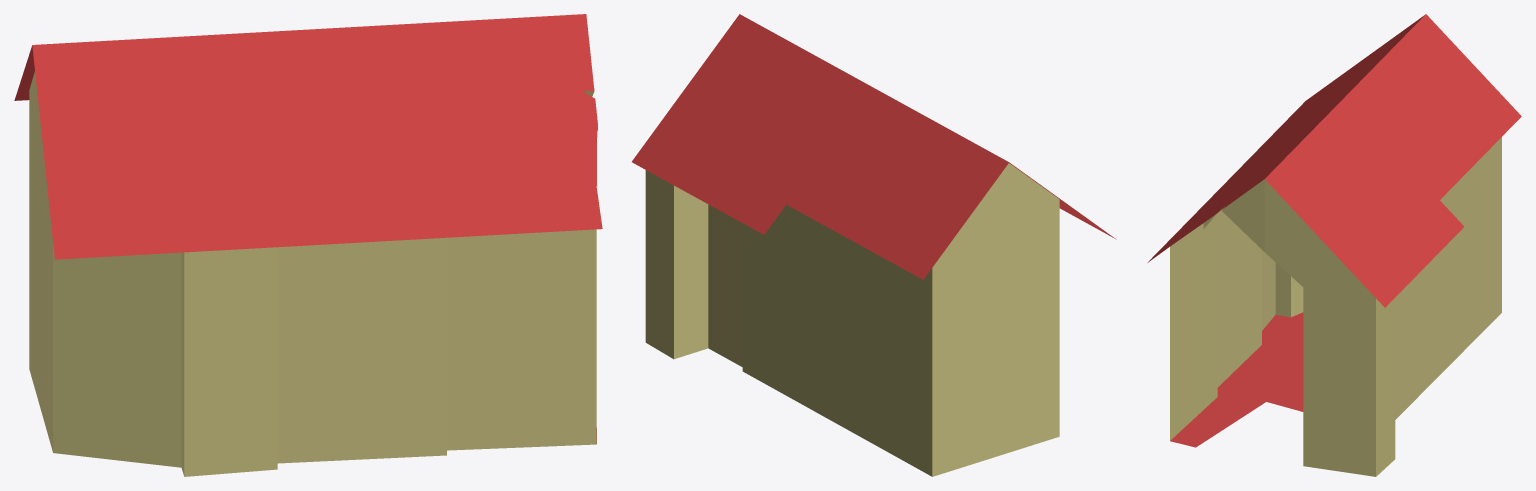
3 renders of one model, left to right at view 1: azimuth 30°, elevation 25°; view 2: azimuth 150°, elevation 25°; view 3: azimuth 270°, elevation 25°, orthographic. The views are drawn at different scales.
Size of the model in its own units: 23.72 by 18.18 by 15.02.
